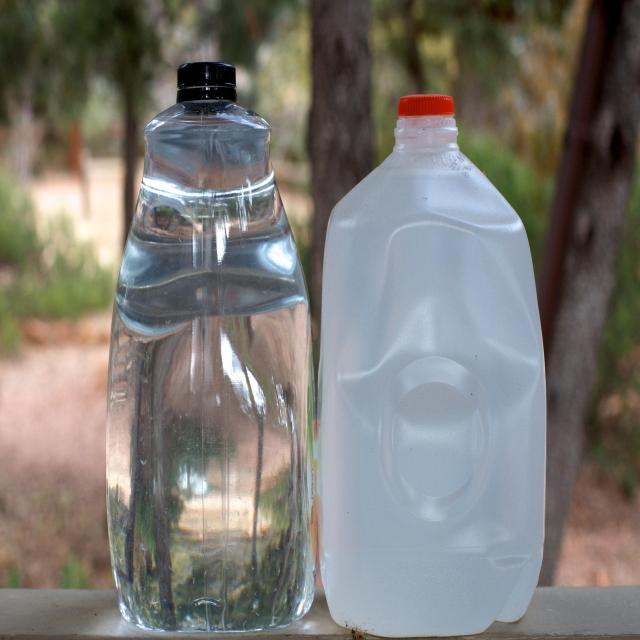bottle: (320, 21, 551, 636), (95, 21, 318, 640)
